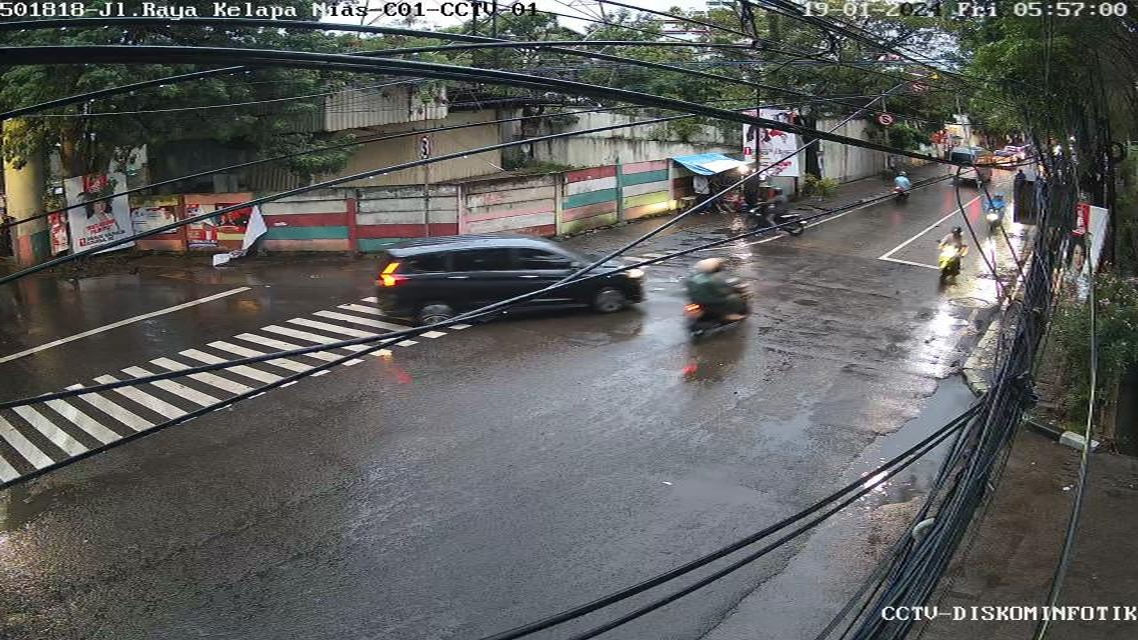Terpal: (667, 155, 754, 174)
